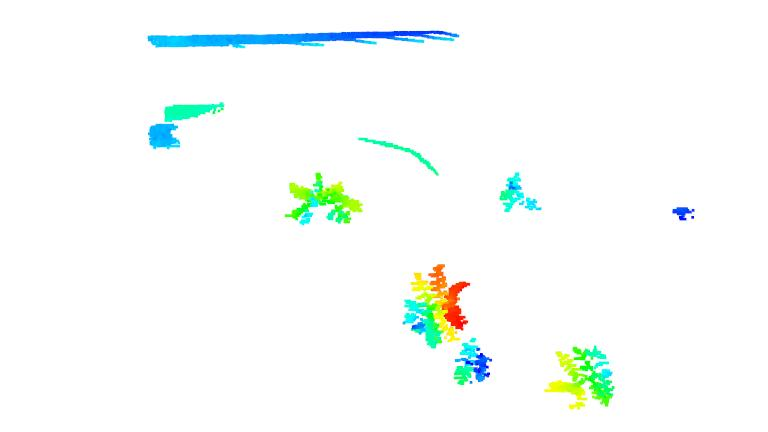chickpea: (401, 262, 469, 349), (541, 344, 616, 410), (287, 171, 366, 233), (496, 172, 543, 217), (452, 339, 490, 386)
